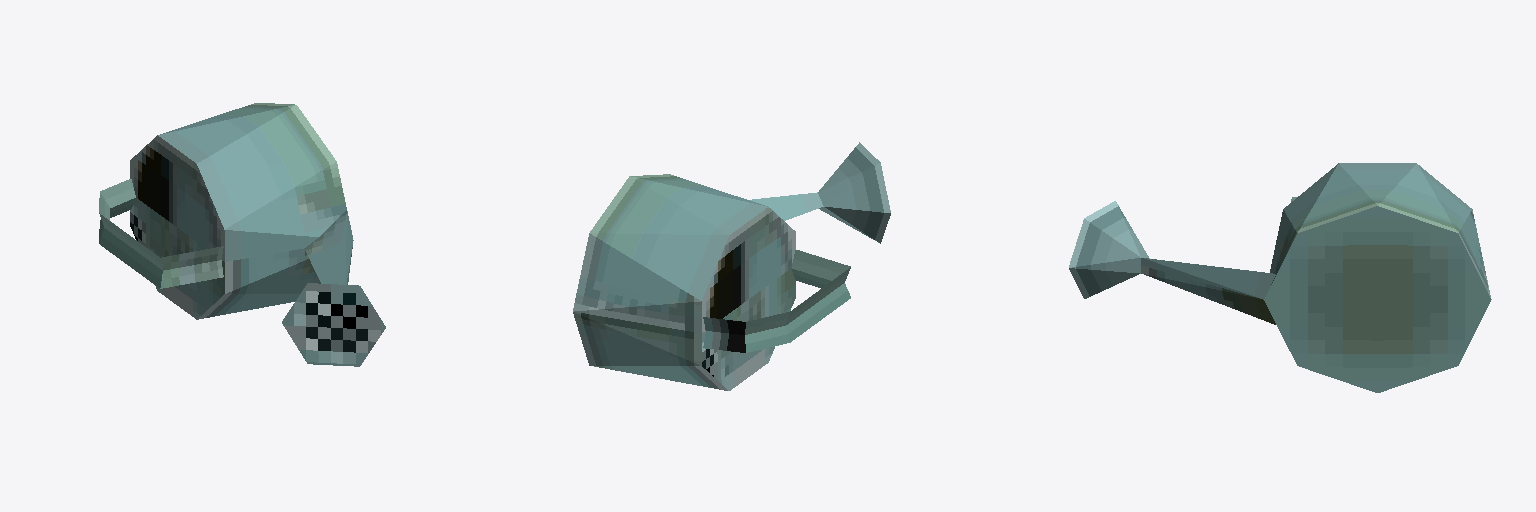
3 renders of one model, left to right at view 1: azimuth 30°, elevation 25°; view 2: azimuth 150°, elevation 25°; view 3: azimuth 270°, elevation 25°, orthographic.
Parts seen in each view (by area): view 1: vsn_mesh_0__mesh_0_.016; view 2: vsn_mesh_0__mesh_0_.016; view 3: vsn_mesh_0__mesh_0_.016.
Part boxes in pixels (bbox=[...]): vsn_mesh_0__mesh_0_.016: bbox=[99, 103, 385, 366]; vsn_mesh_0__mesh_0_.016: bbox=[573, 142, 890, 390]; vsn_mesh_0__mesh_0_.016: bbox=[1069, 163, 1491, 392].
Size of the model in its own units: 9.45 by 9.45 by 19.33.
1 materials, 1 textured.